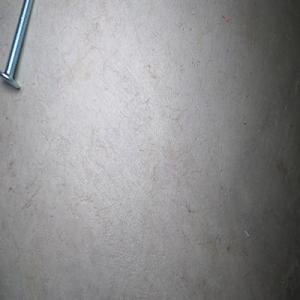Bolt: (0, 0, 34, 90)
